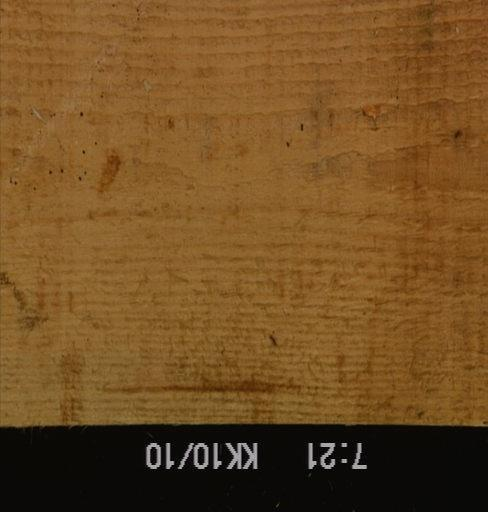small_knot: (449, 128, 463, 140)
